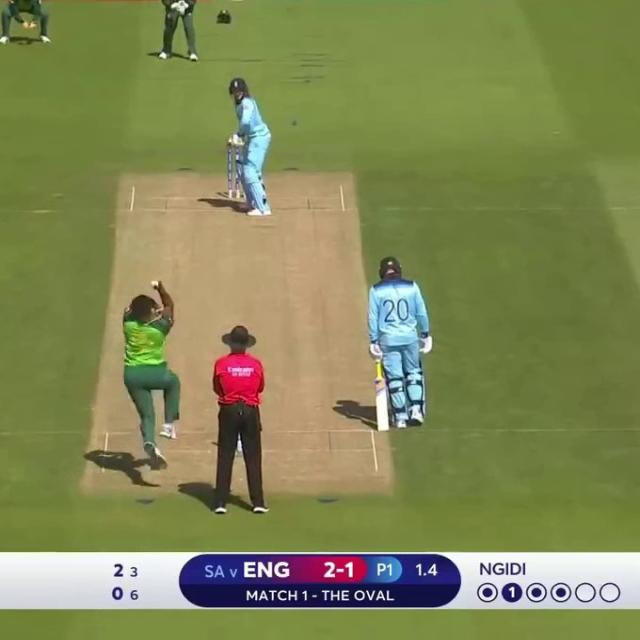bat: (374, 376, 394, 431), (230, 135, 240, 143)
toe: (369, 422, 396, 432)
